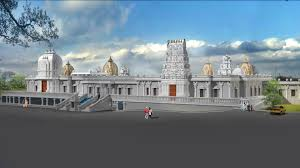Temple: (158, 35, 195, 96)
